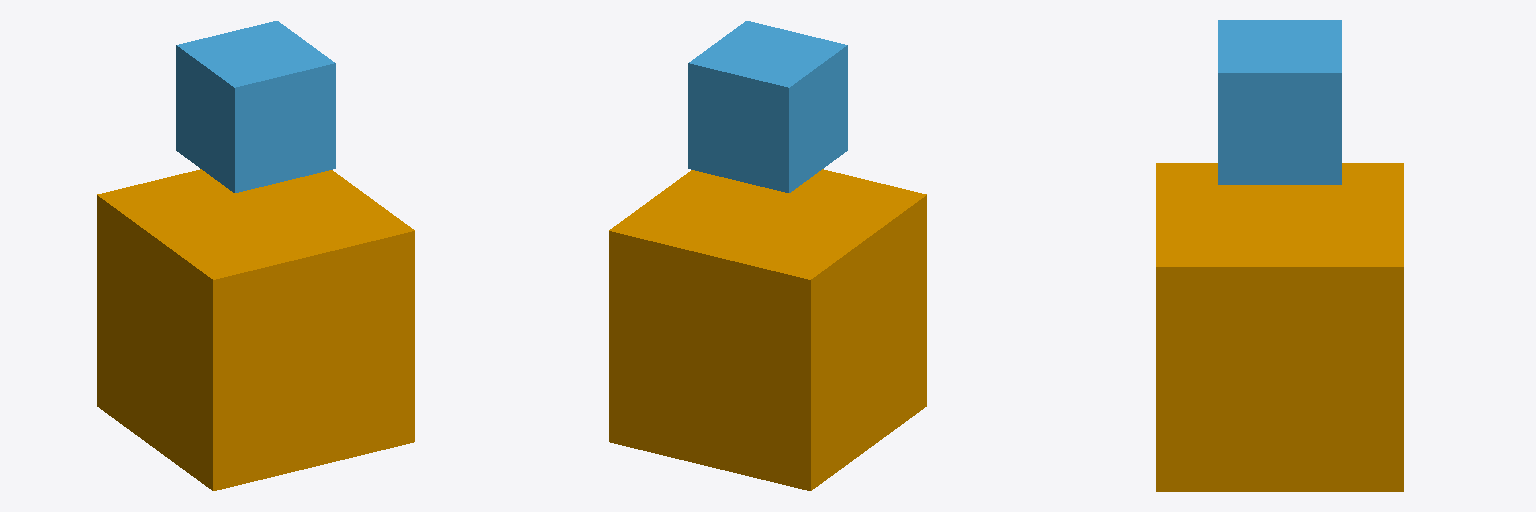
URDF robot description (minimal_two_link):
<?xml version="1.0"?>
<robot name="minimal_two_link">
  <link name="base_link">
    <visual>
      <geometry>
        <box size="0.1 0.1 0.1"/>
      </geometry>
    </visual>
  </link>
  
  <link name="child_link">
     <visual>
      <geometry>
        <box size="0.05 0.05 0.05"/>
      </geometry>
    </visual>
  </link>
  
  <joint name="joint1" type="fixed">
    <parent link="base_link"/>
    <child link="child_link"/>
    <origin xyz="0 0 0.1"/>
  </joint>
</robot>

--- Facts derived from the render (not from the file) ---
The picture shows the robot from 3 angles, left to right: view 1: azimuth 30°, elevation 25°; view 2: azimuth 150°, elevation 25°; view 3: azimuth 270°, elevation 25°; orthographic projection.
Model minimal_two_link with 2 links and 1 joints (1 fixed), rooted at base_link, posed every joint at zero.
Links seen in each view (by area): view 1: base_link, child_link; view 2: base_link, child_link; view 3: base_link, child_link.
Link boxes in pixels (box(x1,y1,x2,y2)): base_link: box(97, 169, 414, 490); child_link: box(176, 21, 335, 192); base_link: box(609, 169, 926, 490); child_link: box(688, 21, 847, 192); base_link: box(1156, 163, 1403, 491); child_link: box(1218, 20, 1341, 184).
Bounding box of the posed robot: 0.1 × 0.1 × 0.175 m (x, y, z).
Geometry: primitives only (box / cylinder / sphere), no mesh files.
